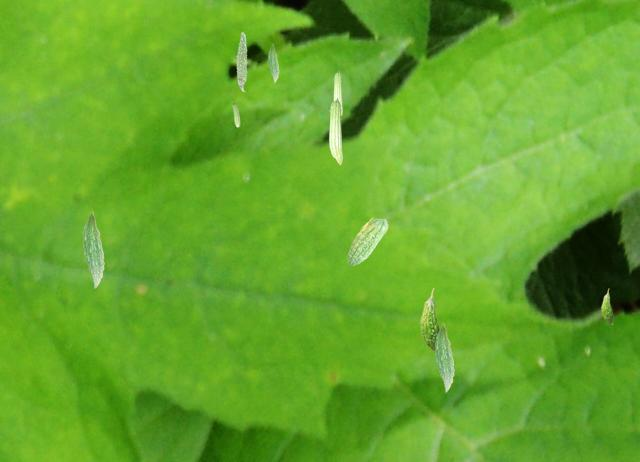ampalaya: (347, 217, 388, 266), (82, 211, 105, 288), (434, 323, 454, 392), (419, 287, 439, 351), (328, 97, 343, 165), (235, 31, 247, 92), (267, 43, 279, 83), (600, 288, 613, 324), (333, 70, 343, 115), (232, 102, 240, 127)
